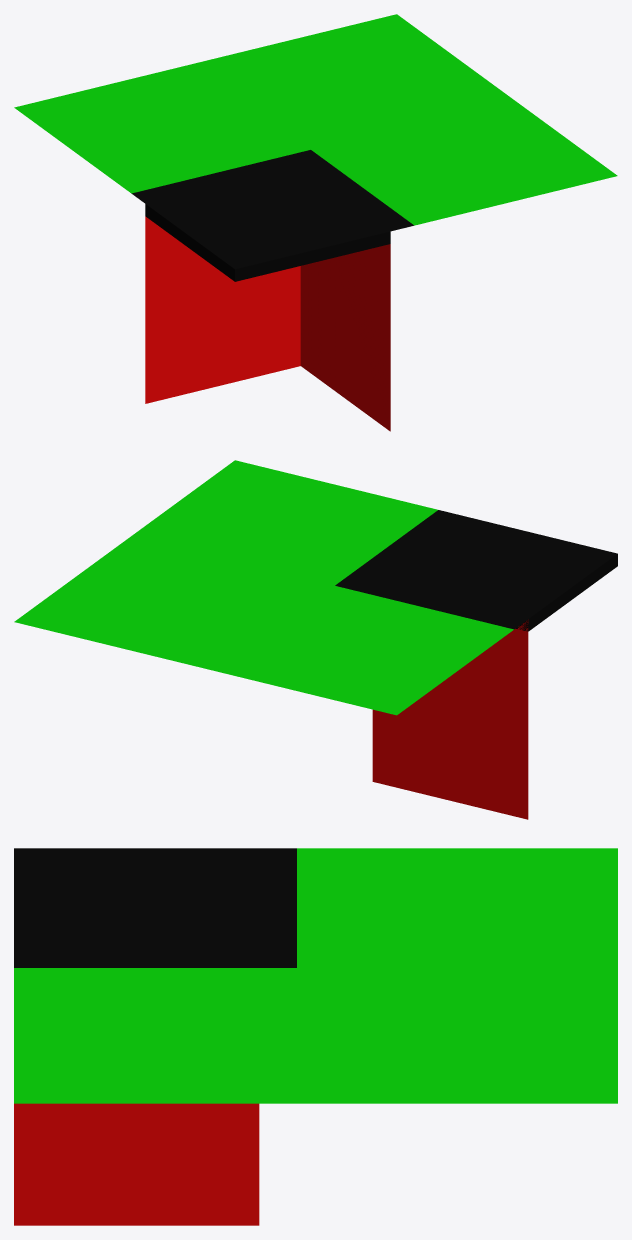
3 renders of one model, top to bottom at view 1: azimuth 30°, elevation 25°; view 2: azimuth 150°, elevation 25°; view 3: azimuth 270°, elevation 25°, orthographic. The views are drawn at different scales.
Parts seen in each view (by area): view 1: None_W_W_E_E_W_P_E_E_None; view 2: None_W_W_E_E_W_P_E_E_None; view 3: None_W_W_E_E_W_P_E_E_None.
Boxes of the visible parts, x1,y1,x2,y2 form: None_W_W_E_E_W_P_E_E_None: [14, 14, 617, 431]; None_W_W_E_E_W_P_E_E_None: [14, 460, 617, 819]; None_W_W_E_E_W_P_E_E_None: [14, 848, 617, 1225].
Bounding box in the file's own units: 100 × 50 × 100.
